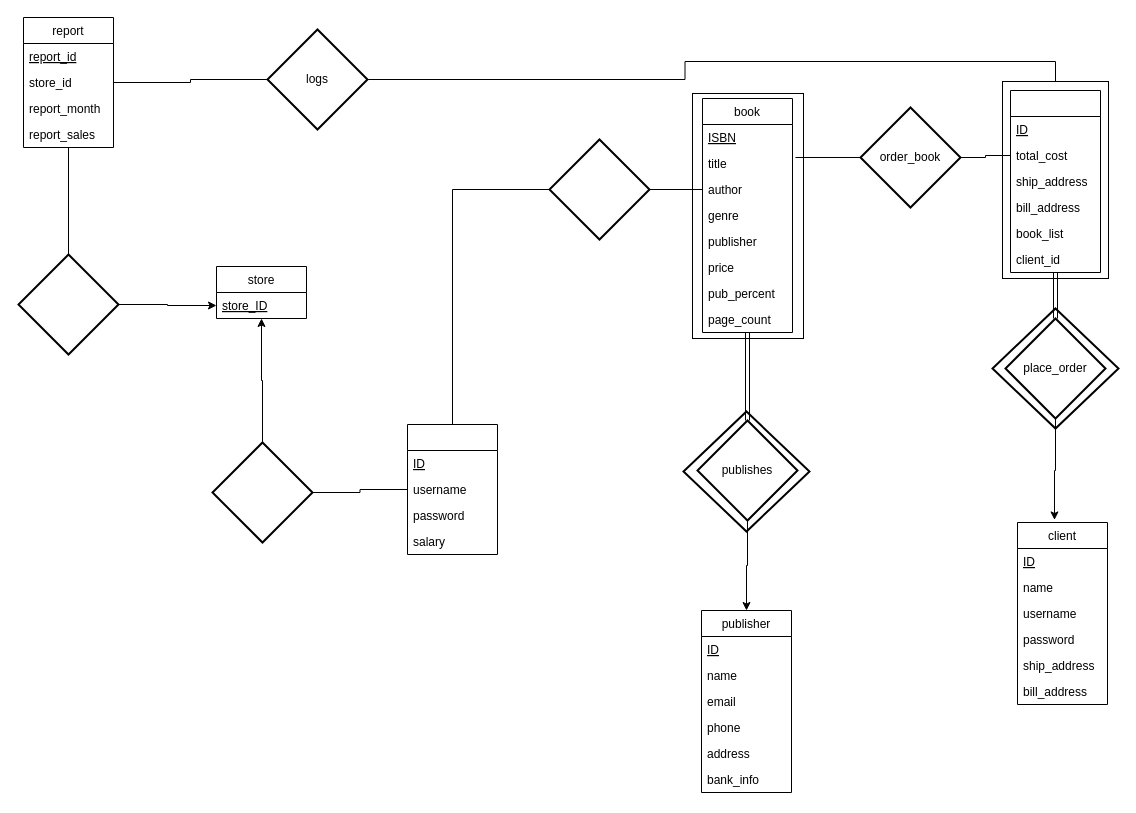
The diagram is 1136 pixels wide and 813 high, and some of its shapes have lost their labels. The shapes that lost their labels are listed below. From the top down, each one's box as (x1, y1, x2, y2) in pixels, then its label:
(548, 138, 650, 240): stock
(1010, 90, 1100, 272): orders
(17, 253, 119, 355): generate
(211, 441, 313, 543): manages
(406, 424, 498, 554): owner
